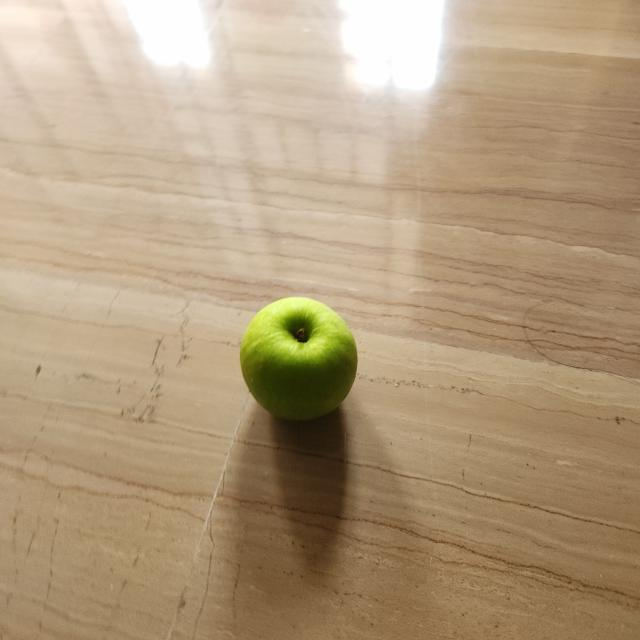apple: (236, 286, 362, 431)
